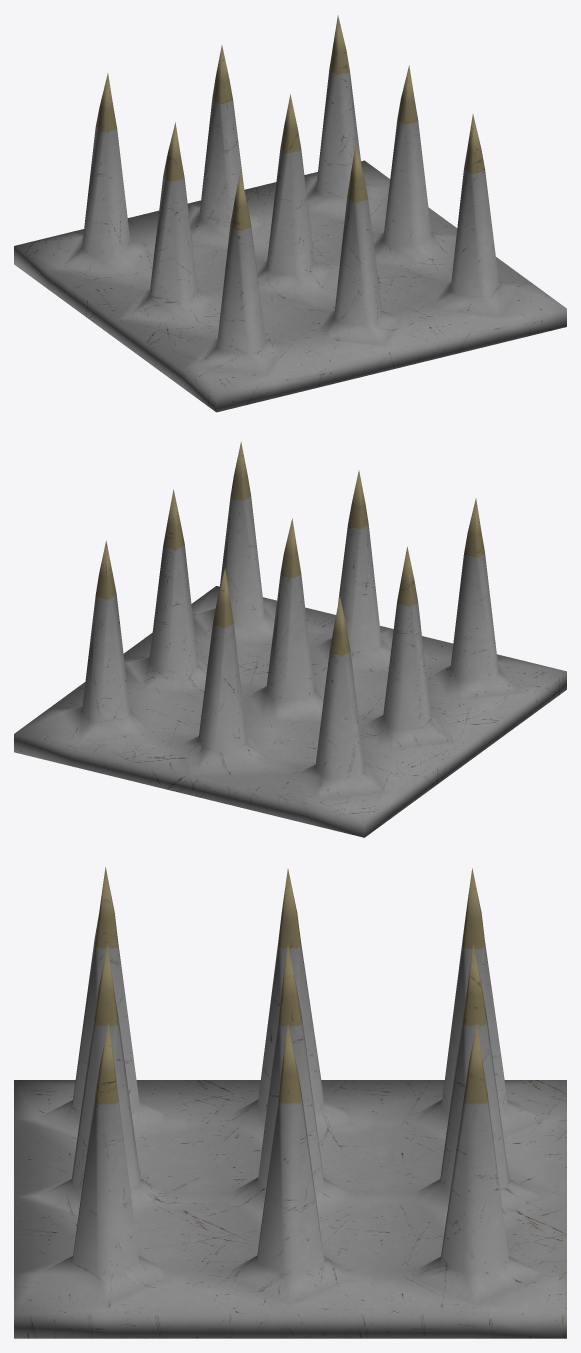
Rendered from kolce.gltf.
3 renders of one model, top to bottom at view 1: azimuth 30°, elevation 25°; view 2: azimuth 150°, elevation 25°; view 3: azimuth 270°, elevation 25°, orthographic. The views are drawn at different scales.
Parts seen in each view (by area): view 1: Kolce; view 2: Kolce; view 3: Kolce.
Part boxes in pixels (x1,y1,x2,y2): Kolce: [14, 15, 566, 412]; Kolce: [14, 441, 566, 837]; Kolce: [14, 867, 566, 1338].
Size of the model in its own units: 2 by 1.11 by 2.
1 material, 1 textured.
